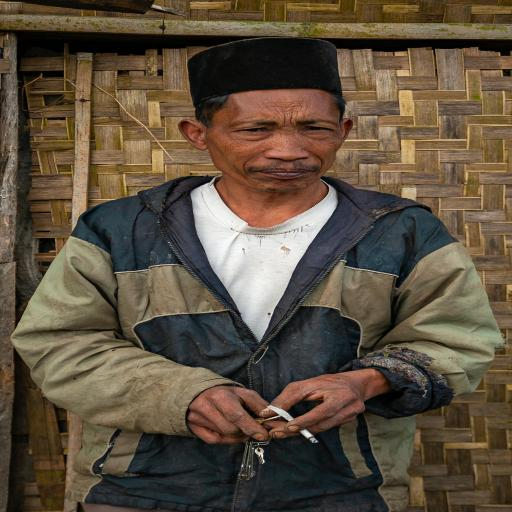terdeteksi pegang rokok: (218, 367, 346, 474)
